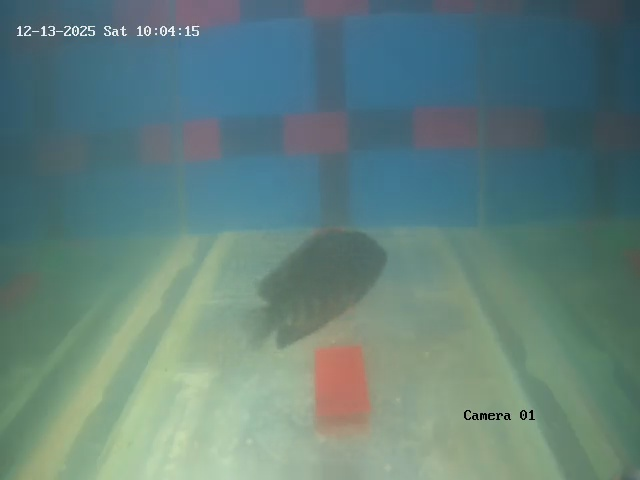fish: (259, 204, 389, 361)
